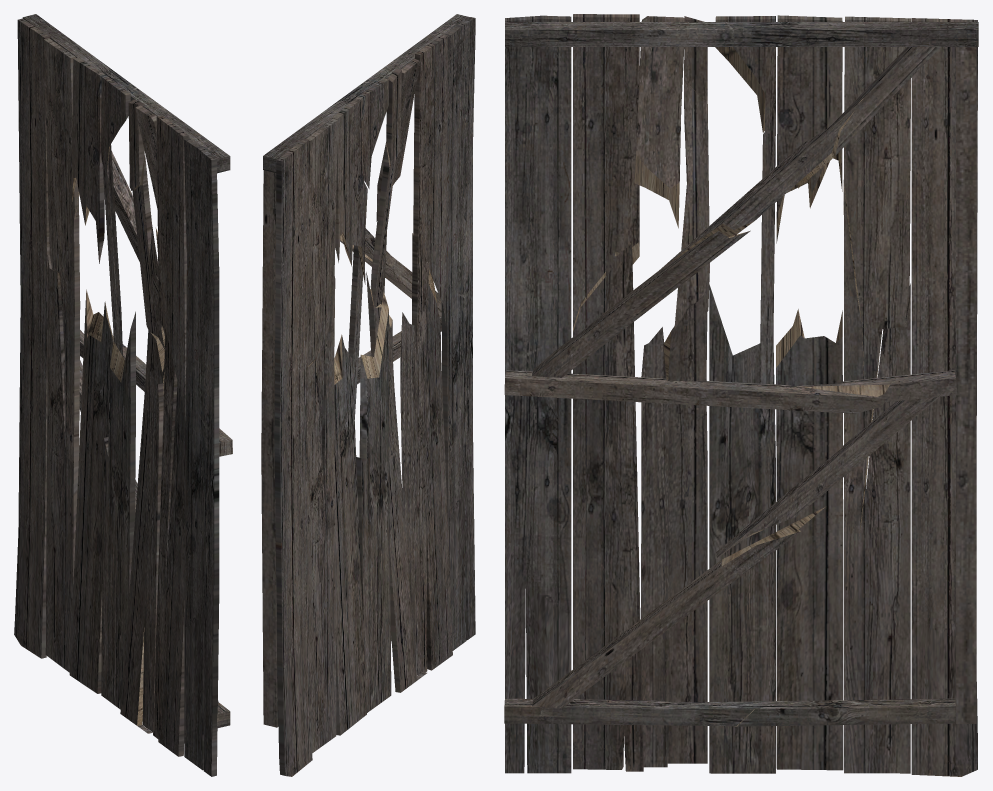
The model's file is shackwall01_dmg02.glb.
3 renders of one model, left to right at view 1: azimuth 30°, elevation 25°; view 2: azimuth 150°, elevation 25°; view 3: azimuth 270°, elevation 25°, orthographic. The views are drawn at different scales.
Visible parts, largest first — view 1: shackwall01_dmg02; view 2: shackwall01_dmg02; view 3: shackwall01_dmg02.
Boxes of the visible parts, left/top/right/bottom form: shackwall01_dmg02: left=14, top=14, right=232, bottom=776; shackwall01_dmg02: left=261, top=14, right=475, bottom=776; shackwall01_dmg02: left=504, top=14, right=978, bottom=776.
Size of the model in its own units: 0.1937 by 2.16 by 1.22.
1 material, 1 textured.
